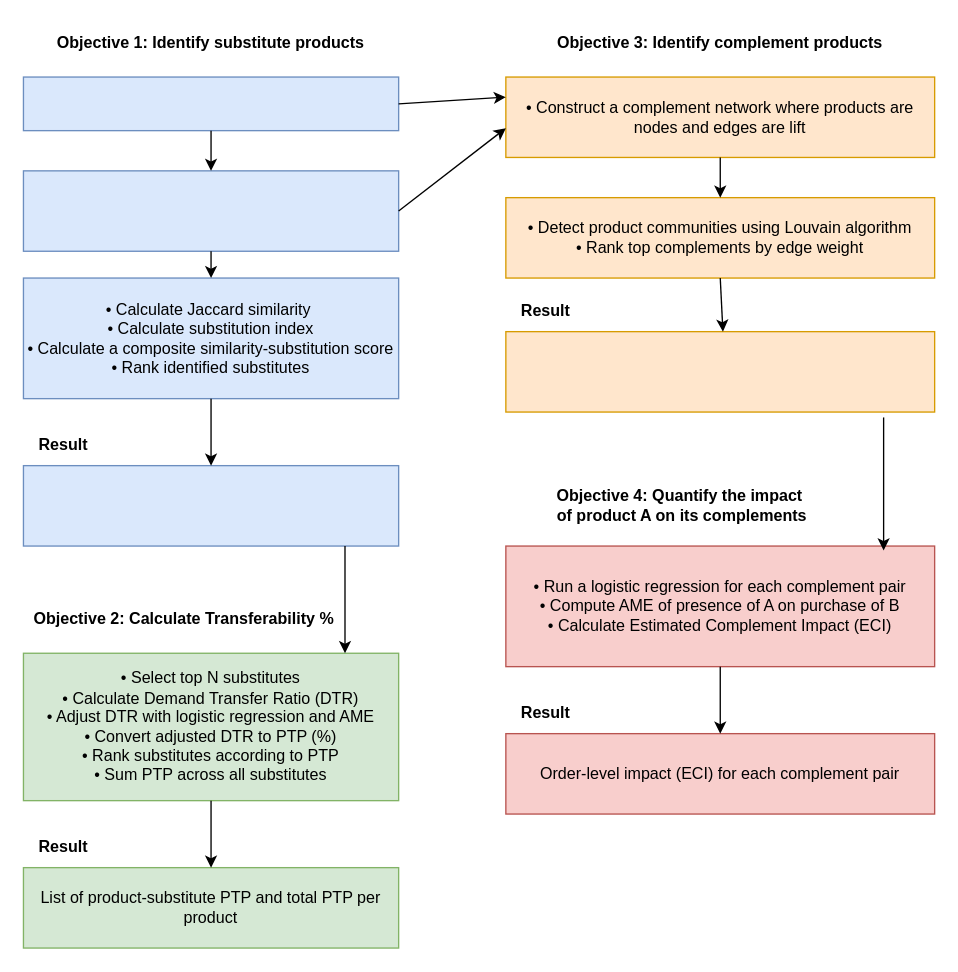
The diagram is 958 pixels wide and 972 high, and some of its shapes have lost their labels. Here are the shapes that lost their labels. From the top down, the centre of each, then its label:
At pixel 210 103: "Create a product-order matrix".
At pixel 210 210: "Calculate co-occurrence probability and conditional probability".
At pixel 720 371: "List of top complement products for each product".
At pixel 210 505: "Ranked list of potential substitutes per product".
